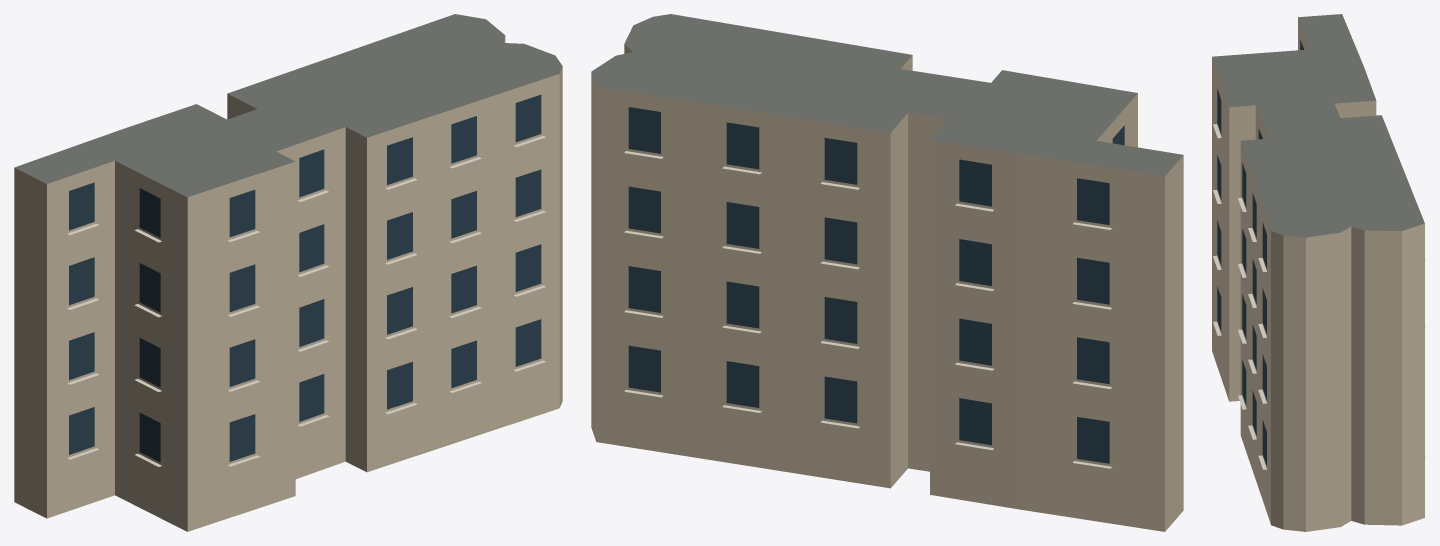
3 renders of one model, left to right at view 1: azimuth 30°, elevation 25°; view 2: azimuth 150°, elevation 25°; view 3: azimuth 270°, elevation 25°, orthographic. The views are drawn at different scales.
Parts seen in each view (by area): view 1: Footprint 0, Inferred window bays, Window sills; view 2: Footprint 0, Inferred window bays, Window sills; view 3: Footprint 0, Inferred window bays, Window sills.
Part boxes in pixels (<box>): Footprint 0: <box>14,14,562,531</box>; Inferred window bays: <box>69,94,541,462</box>; Window sills: <box>67,135,545,466</box>; Footprint 0: <box>591,14,1183,531</box>; Inferred window bays: <box>628,107,1124,463</box>; Window sills: <box>624,151,1111,468</box>; Footprint 0: <box>1212,14,1424,531</box>; Inferred window bays: <box>1217,40,1304,465</box>; Window sills: <box>1213,124,1425,469</box>.
Size of the model in its own units: 22.77 by 13.98 by 9.21.
